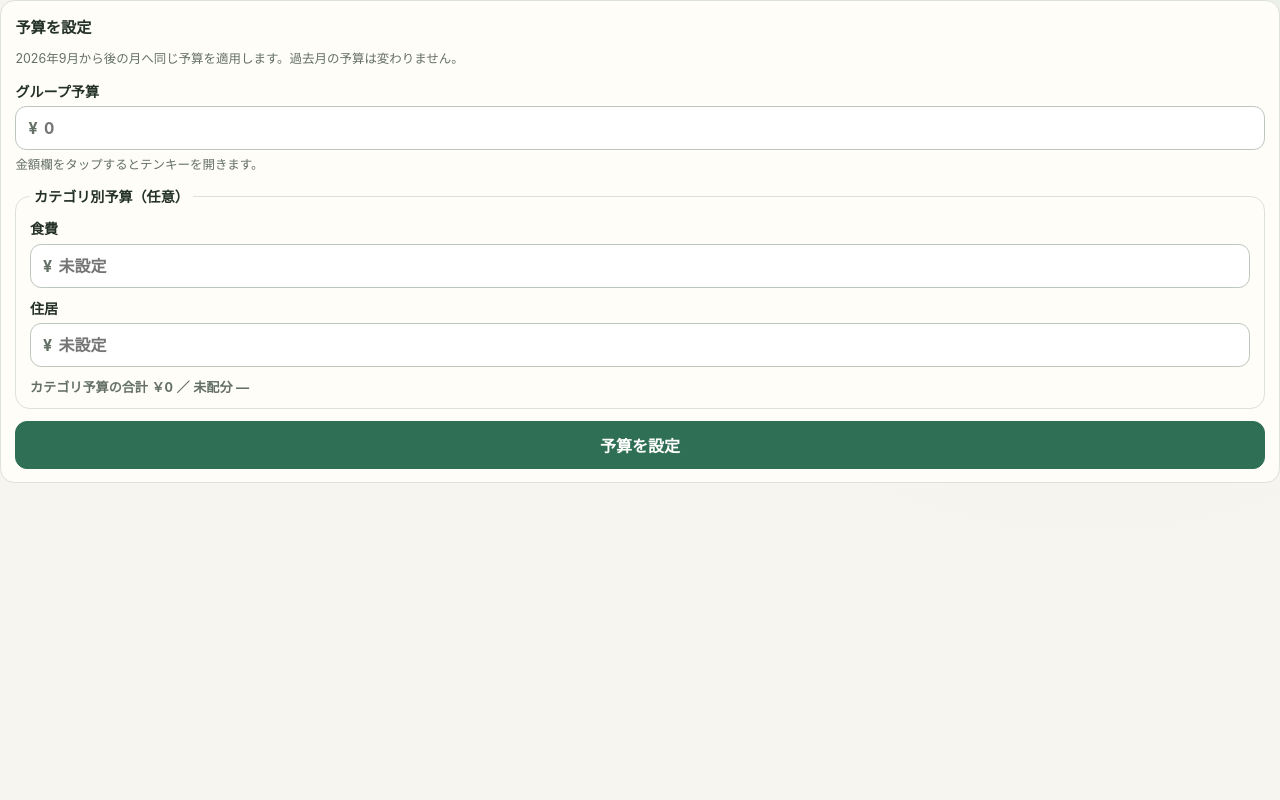
Test: BudgetEditor › 金額欄以外へfocusが移るとテンキーを閉じ、物理キーボードからの入力は維持する (AC-BUD-010-4)
The width and height of the screenshot is (1280, 800).
Focus the field labelled "グループ予算" at x=648, y=128, box left=44, top=107, right=1252, bottom=149
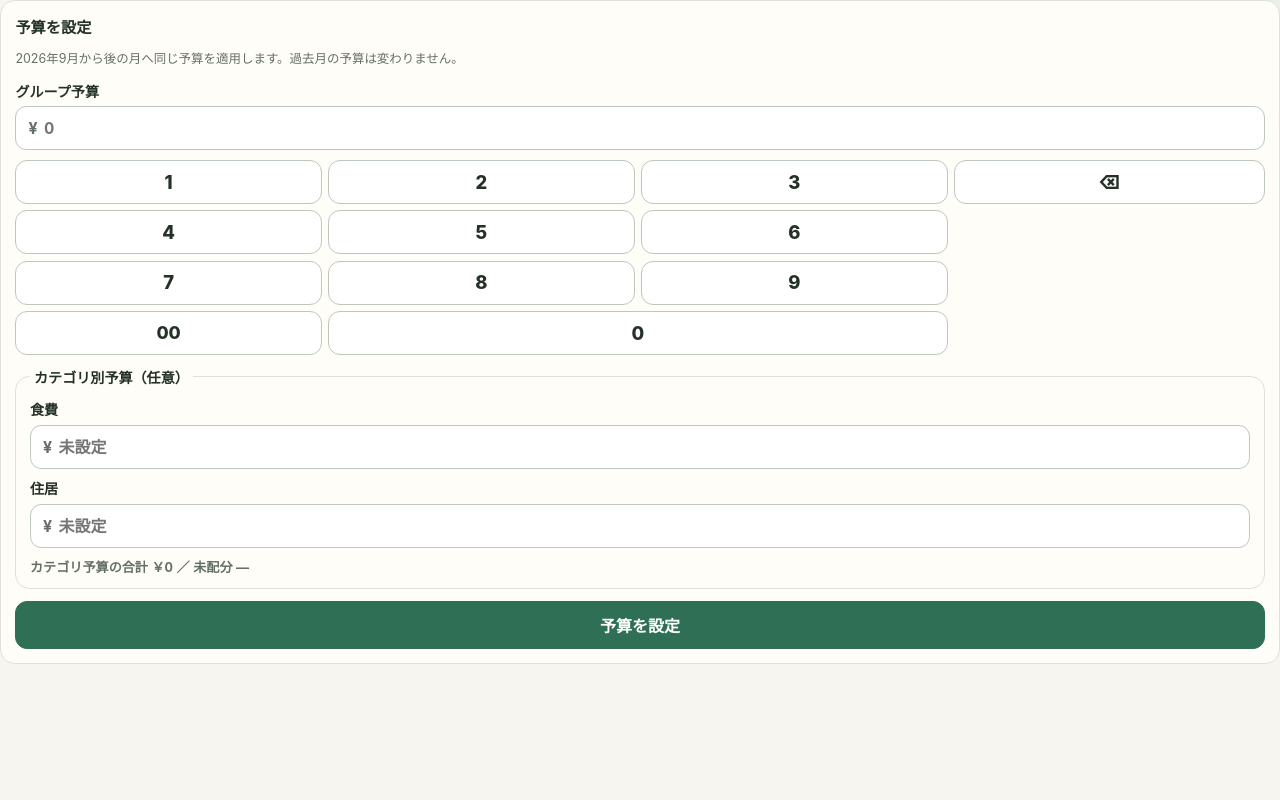
Focus the button "予算を設定" at x=640, y=625, box left=15, top=601, right=1265, bottom=649
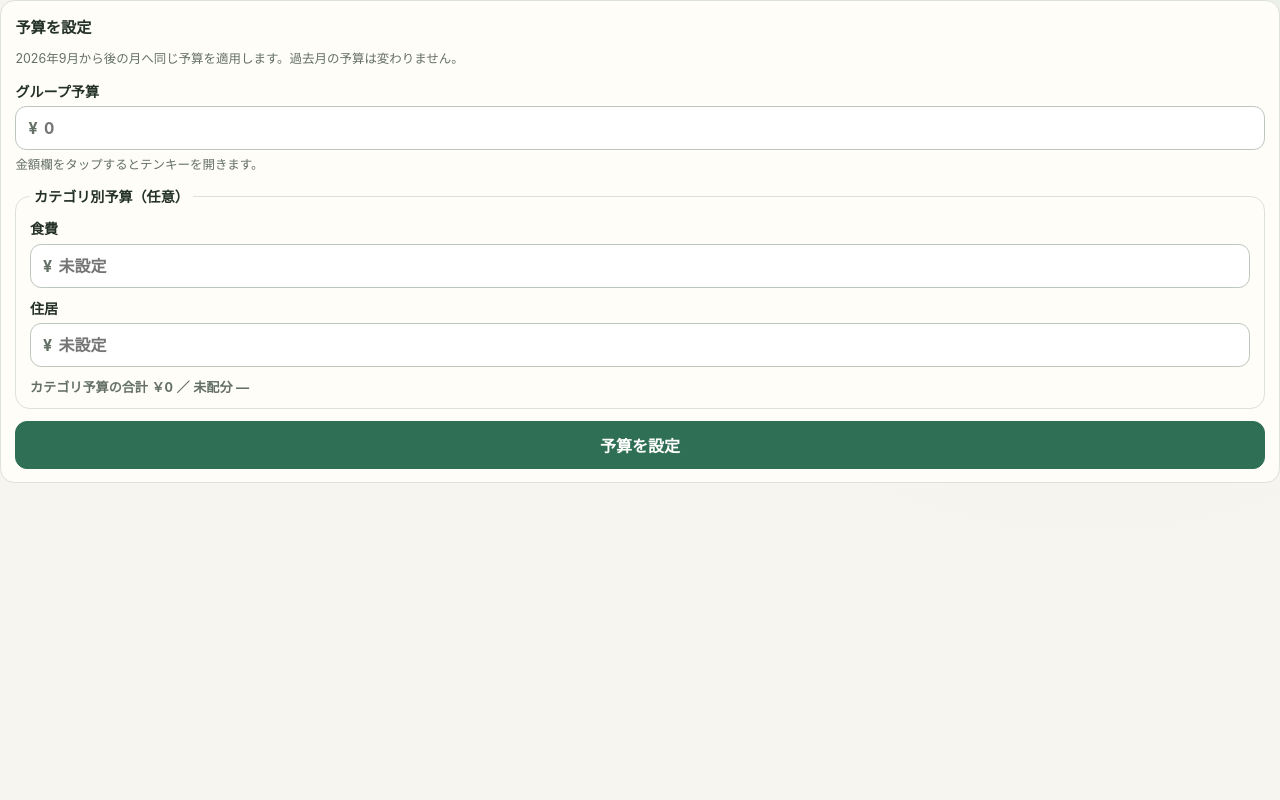
Expected: the text "金額欄をタップするとテンキーを開きます。" is shown, left=15, top=157, right=264, bottom=172
Type "12345" into the field labelled "グループ予算" at x=648, y=128, box left=44, top=107, right=1252, bottom=149
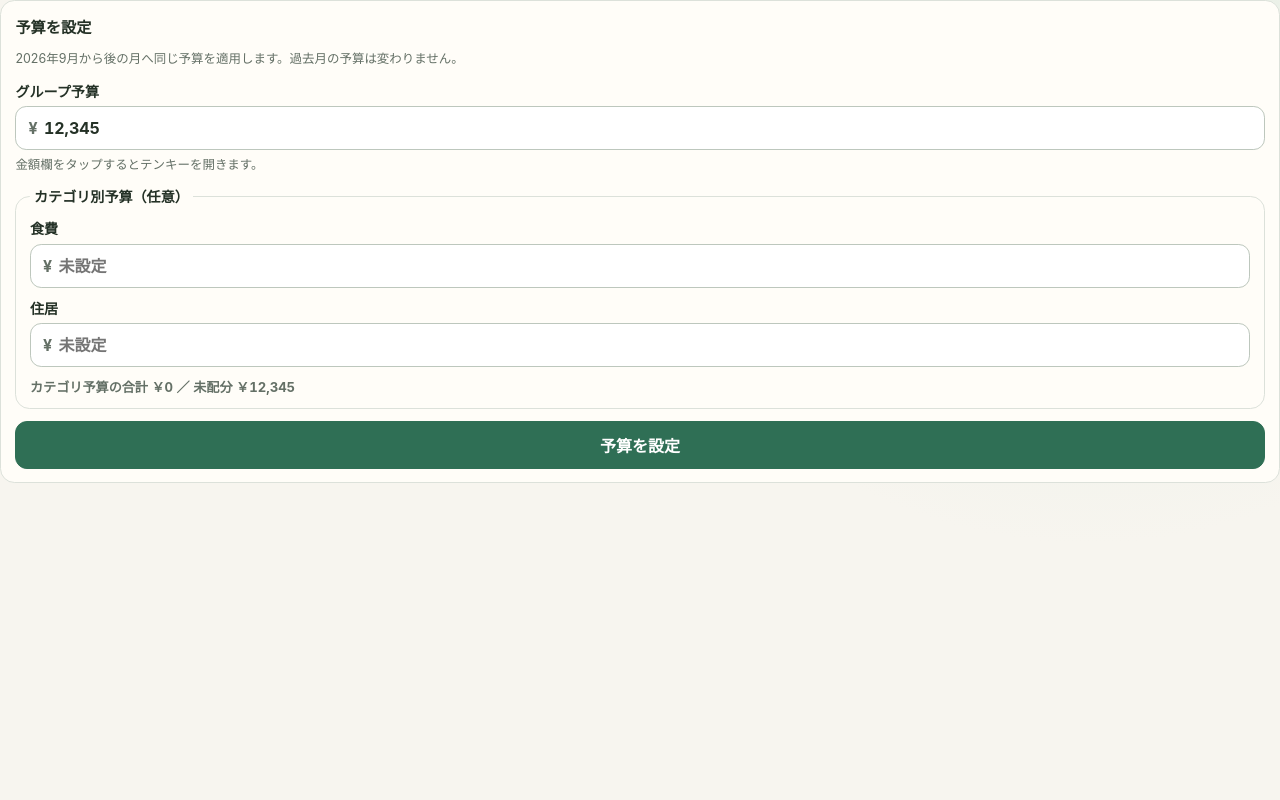
Expected: the field labelled "グループ予算" holds "12,345"
Note: 桁区切り表示を含む入力は,を無視して数字だけを状態へ反映する (AC-BUD-010-5)
Replace the text in the field labelled "グループ予算" with "1,2,34,567" at x=648, y=128, box left=44, top=107, right=1252, bottom=149
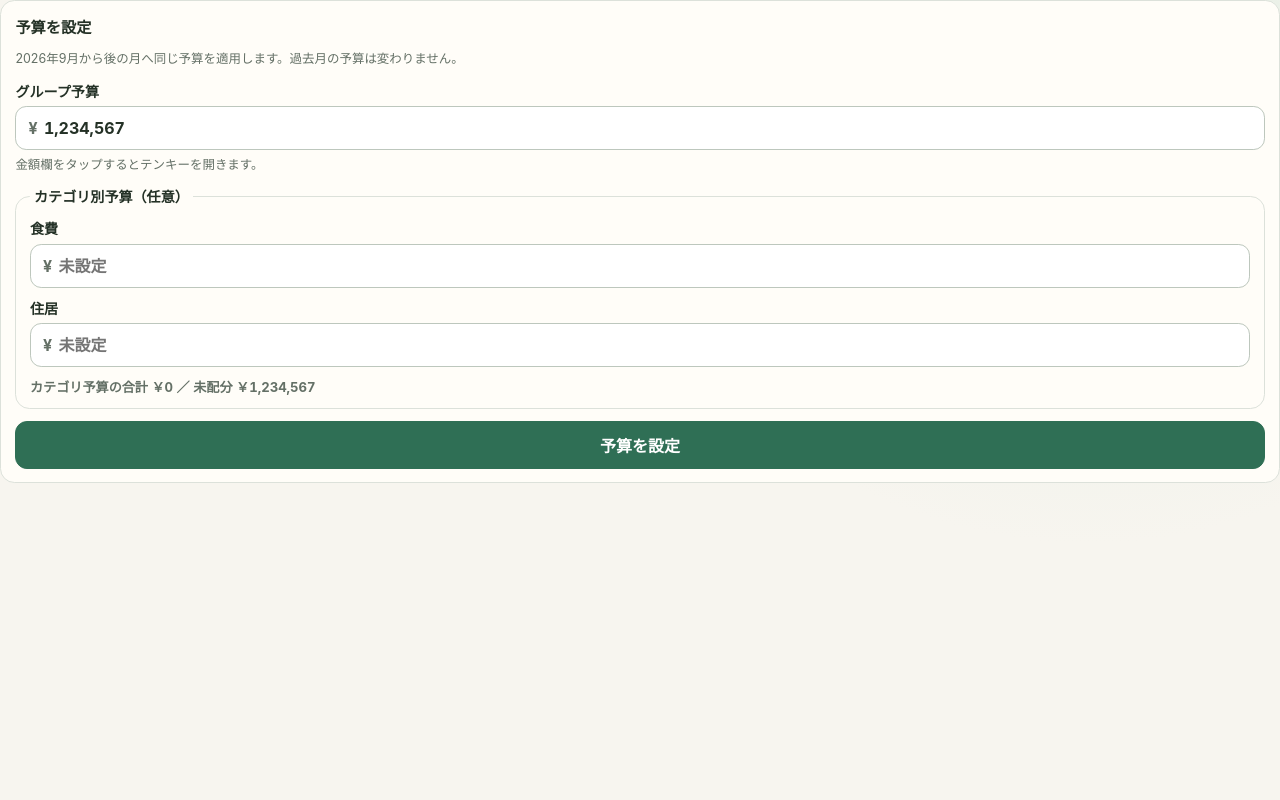
Expected: the field labelled "グループ予算" holds "1,234,567", left=44, top=107, right=1252, bottom=149
